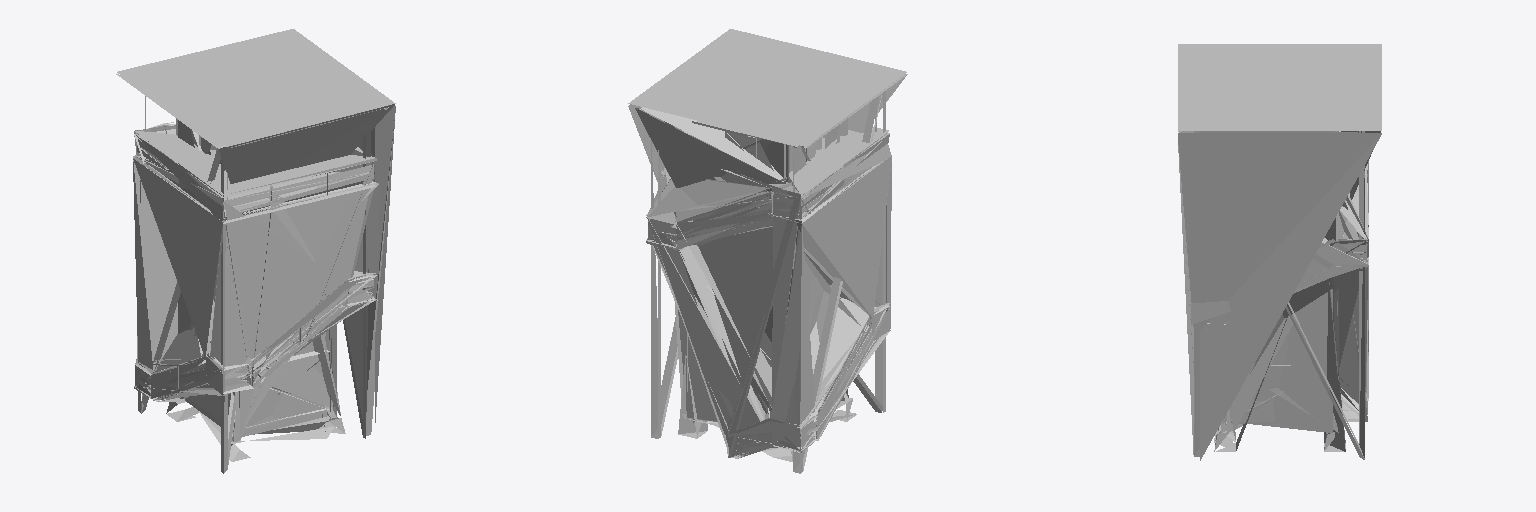
Rendered from wooden_watch_tower.obj.
3 renders of one model, left to right at view 1: azimuth 30°, elevation 25°; view 2: azimuth 150°, elevation 25°; view 3: azimuth 270°, elevation 25°, orthographic.
Parts seen in each view (by area): view 1: watchtowerHigh; view 2: watchtowerHigh; view 3: watchtowerHigh.
Part boxes in pixels (x1,y1,x2,y2): watchtowerHigh: (116, 29, 395, 473); watchtowerHigh: (628, 29, 907, 473); watchtowerHigh: (1178, 44, 1381, 460).
Bounding box in the file's own units: 4.22 × 7.65 × 4.22.